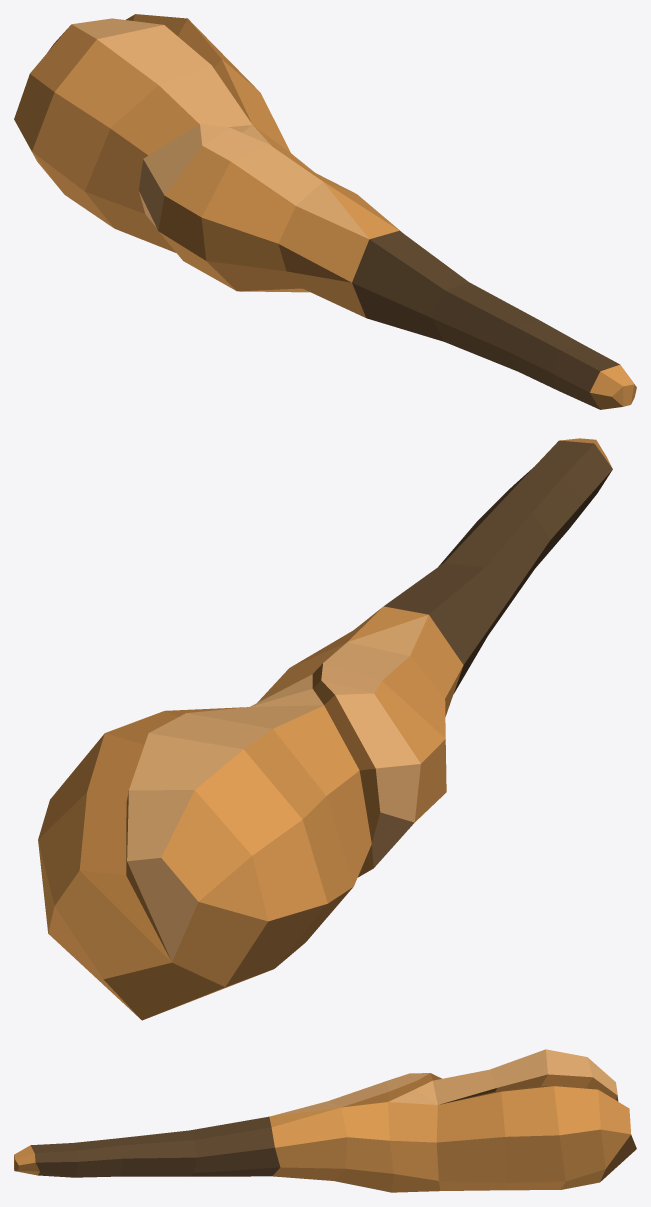
File: Club.fbx
The picture shows the model from 3 angles, top to bottom: view 1: azimuth 30°, elevation 25°; view 2: azimuth 150°, elevation 25°; view 3: azimuth 270°, elevation 25°; orthographic projection. The views are drawn at different scales.
Parts seen in each view (by area): view 1: Club_01; view 2: Club_01; view 3: Club_01.
Boxes of the visible parts, <box> form: Club_01: <box>14,14,636,409</box>; Club_01: <box>38,438,612,1020</box>; Club_01: <box>14,1049,636,1192</box>.
Size of the model in its own units: 2497 by 2071 by 9283.
